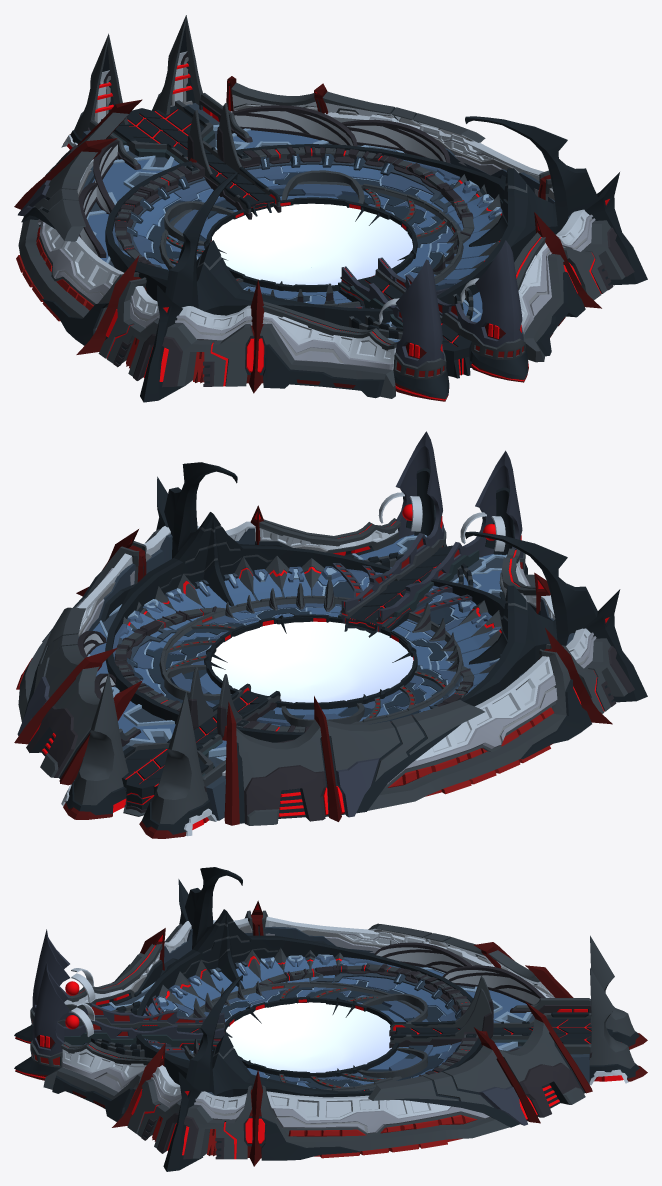
Rendered from arena_motorstrike.fbx.
3 views of the same model, one above another, from view 1: azimuth 30°, elevation 25°; view 2: azimuth 150°, elevation 25°; view 3: azimuth 270°, elevation 25° (orthographic). The views are drawn at different scales.
Parts seen in each view (by area): view 1: Arena_MotorStrike_Stadium, FX_MOD_GlassFloor; view 2: Arena_MotorStrike_Stadium, FX_MOD_GlassFloor; view 3: Arena_MotorStrike_Stadium, FX_MOD_GlassFloor.
Part boxes in pixels (left/top/right/bottom): Arena_MotorStrike_Stadium: left=14, top=15, right=647, bottom=402; FX_MOD_GlassFloor: left=212, top=203, right=412, bottom=285; Arena_MotorStrike_Stadium: left=14, top=431, right=647, bottom=838; FX_MOD_GlassFloor: left=211, top=621, right=413, bottom=702; Arena_MotorStrike_Stadium: left=14, top=867, right=647, bottom=1171; FX_MOD_GlassFloor: left=226, top=1002, right=391, bottom=1072.
Size of the model in its own units: 57.74 by 16.83 by 69.17.
6 materials, 5 textured.
